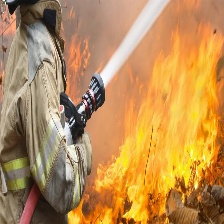fire: (73, 18, 222, 223)
